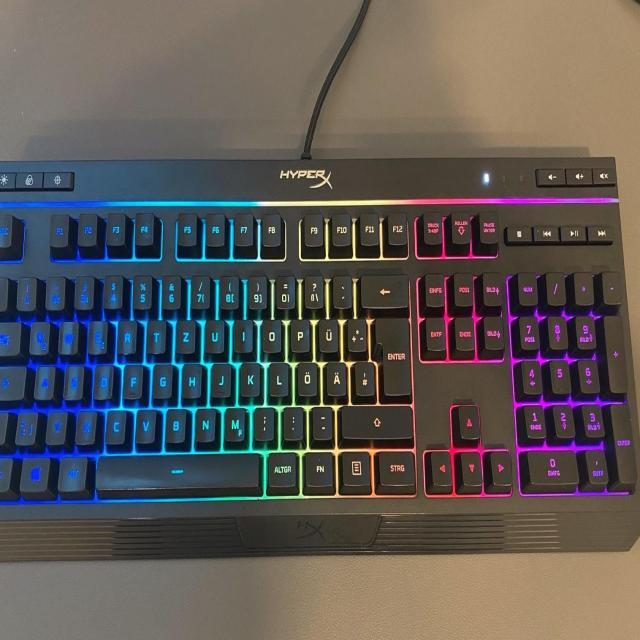0: (274, 270, 295, 309)
1: (15, 272, 36, 309)
2: (43, 272, 65, 309)
3: (73, 272, 95, 309)
4: (101, 271, 123, 308)
5: (131, 270, 153, 309)
6: (160, 271, 181, 309)
7: (189, 270, 210, 309)
8: (217, 272, 239, 310)
9: (245, 272, 267, 309)
a: (33, 362, 54, 399)
accent: (331, 272, 351, 307)
ae: (324, 358, 346, 394)
alt-left: (57, 453, 87, 490)
altgr-right: (266, 448, 297, 488)
b: (163, 405, 186, 441)
c: (104, 406, 126, 442)
caret: (0, 274, 10, 310)
comma: (252, 404, 274, 440)
d: (92, 361, 112, 399)
del: (358, 271, 408, 307)
e: (86, 317, 107, 353)
enter: (372, 311, 410, 394)
f: (122, 361, 143, 399)
g: (151, 360, 172, 398)
h: (180, 360, 201, 397)
hash: (352, 357, 375, 394)
i: (231, 316, 253, 351)
j: (210, 360, 231, 397)
k: (238, 359, 260, 396)
keyboard: (0, 197, 640, 525)
l: (267, 359, 288, 395)
less: (13, 407, 36, 443)
m: (222, 404, 245, 442)
minus: (310, 403, 332, 437)
n: (193, 404, 215, 441)
o: (260, 316, 282, 352)
oe: (295, 359, 318, 395)
p: (289, 316, 310, 352)
plus: (345, 314, 366, 351)
point: (281, 403, 303, 438)
q: (27, 318, 49, 353)
r: (116, 316, 136, 353)
s: (63, 362, 83, 398)
shift-left: (0, 409, 16, 444)
shift-lock: (0, 363, 25, 399)
shift-right: (339, 402, 412, 439)
space: (93, 449, 261, 492)
ss: (302, 271, 323, 307)
strg-left: (0, 455, 20, 491)
strg-right: (374, 446, 415, 486)
t: (144, 316, 165, 352)
tab: (0, 319, 20, 354)
u: (203, 316, 224, 352)
ue: (316, 316, 338, 352)
v: (134, 405, 156, 441)
w: (57, 318, 78, 354)
x: (74, 407, 96, 443)
y: (44, 408, 66, 444)
z: (174, 316, 195, 352)
